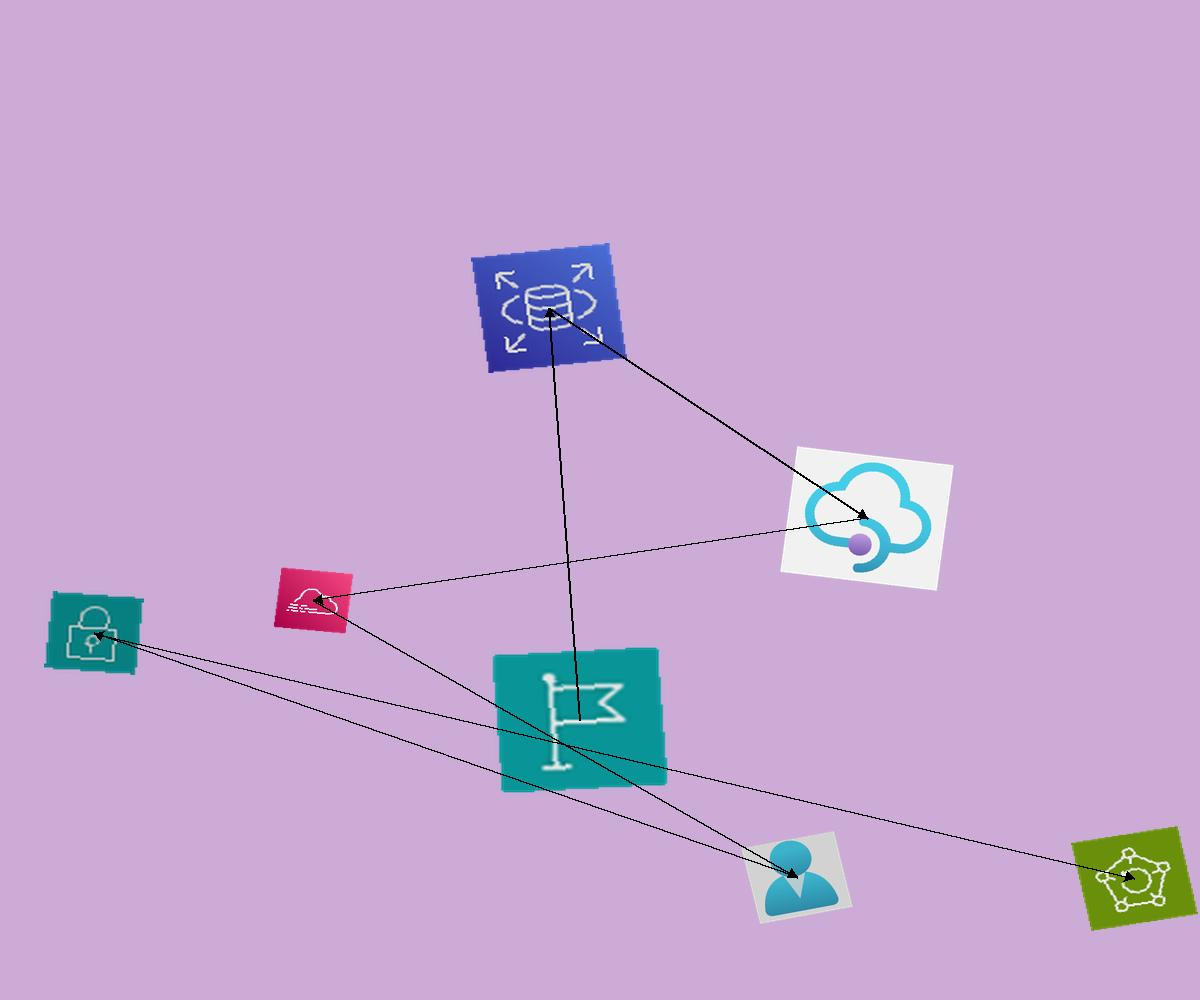AWS-Backup: (1071, 826, 1198, 931)
AWS-CloudTrail: (273, 567, 354, 634)
AWS-Private-subnet: (44, 591, 144, 675)
AWS-RDS: (471, 243, 627, 373)
AWS-Region: (491, 646, 669, 794)
Azure_api_gateway: (780, 446, 954, 591)
Azure_users: (741, 831, 853, 924)
